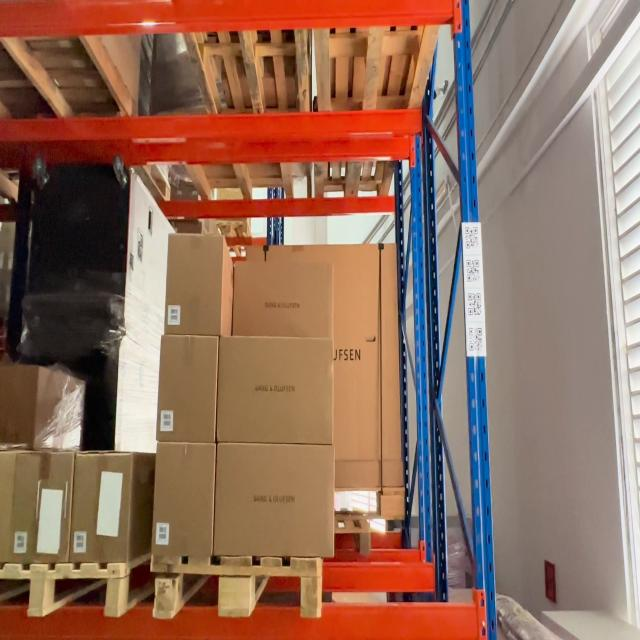box: (215, 444, 335, 560), (217, 338, 332, 445), (233, 264, 332, 341), (10, 454, 74, 564), (70, 454, 133, 563), (153, 446, 215, 556), (157, 337, 219, 442), (165, 233, 223, 335)
